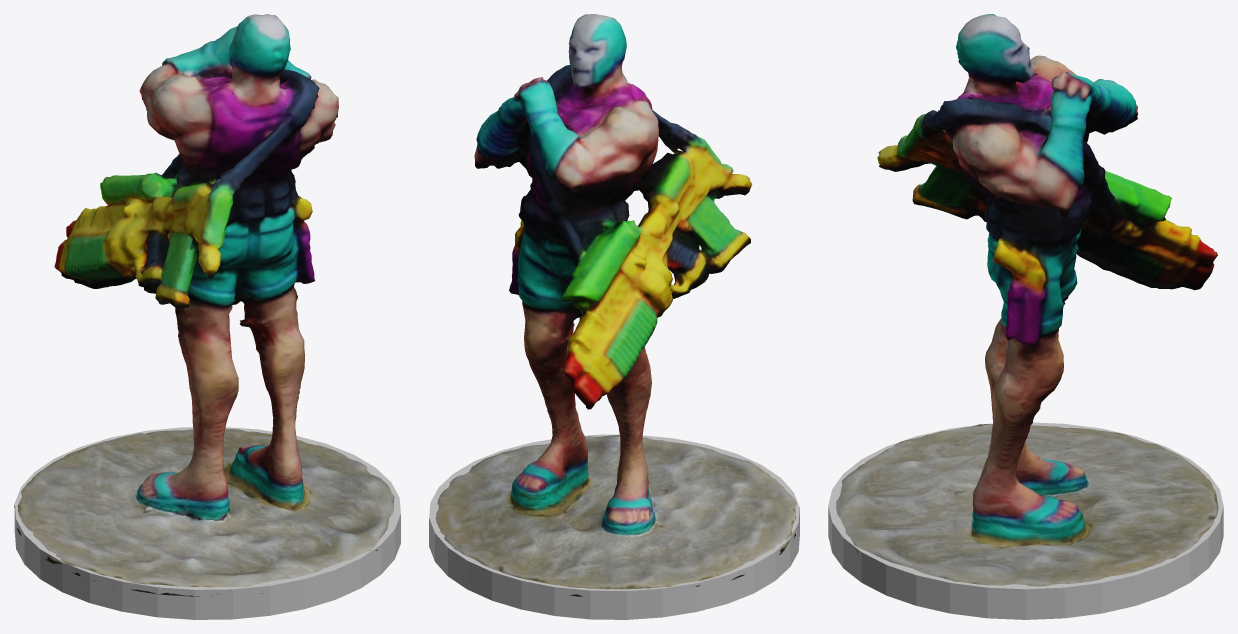
The picture shows the model from 3 angles, left to right: view 1: azimuth 30°, elevation 25°; view 2: azimuth 150°, elevation 25°; view 3: azimuth 270°, elevation 25°; orthographic projection. The views are drawn at different scales.
Visible parts, largest first — view 1: default, BeachBones; view 2: default, BeachBones; view 3: default, BeachBones.
Part boxes in pixels (x1,y1,x2,y2): default: [14, 14, 394, 596]; BeachBones: [14, 427, 400, 619]; default: [435, 14, 799, 596]; BeachBones: [429, 434, 799, 619]; default: [836, 14, 1218, 586]; BeachBones: [828, 422, 1223, 619].
Size of the model in its own units: 1.38 by 2.06 by 1.38.
Materials: 2 (1 with a texture image).
